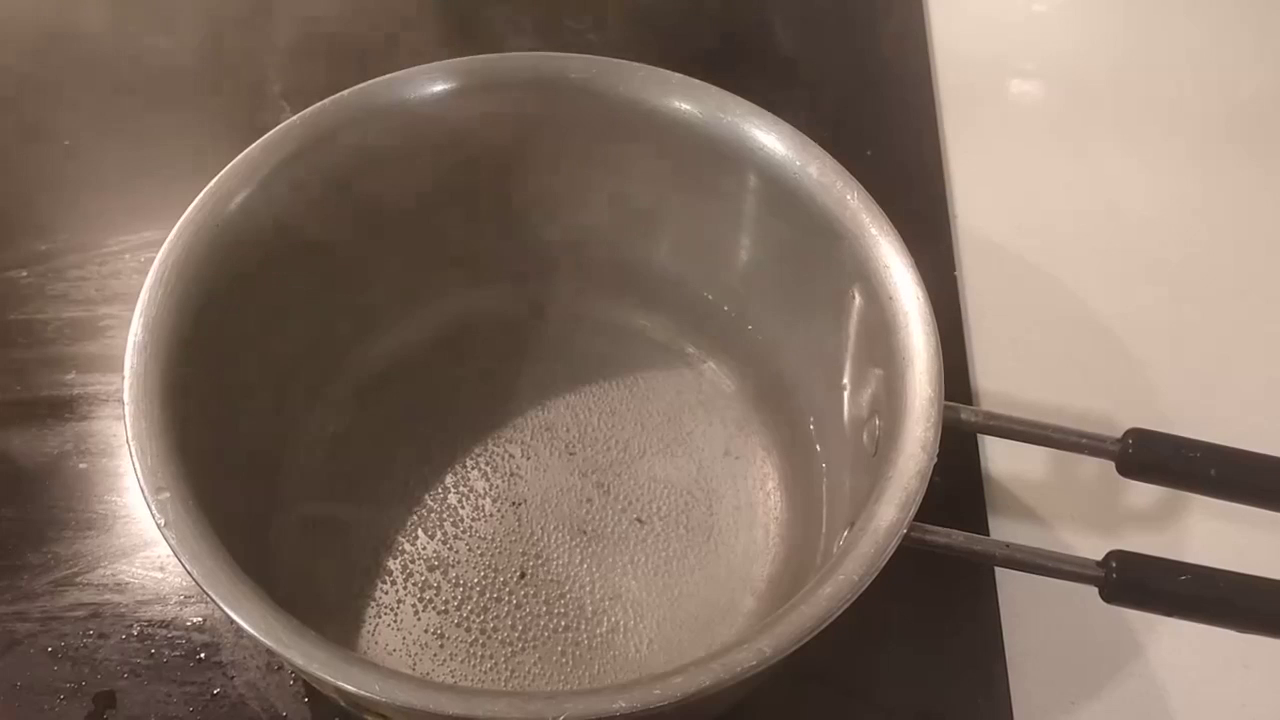Boiling: (353, 275, 786, 625)
